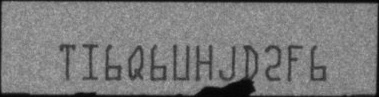2: (263, 43, 282, 81)
6: (309, 43, 328, 82), (104, 43, 122, 81), (149, 44, 167, 82)
D: (241, 43, 260, 82)
F: (287, 44, 303, 82)
G: (217, 43, 236, 80)
H: (194, 43, 213, 80)
I: (80, 43, 99, 80)
Q: (127, 44, 144, 81)
T: (59, 43, 76, 81)
U: (172, 42, 191, 81)
